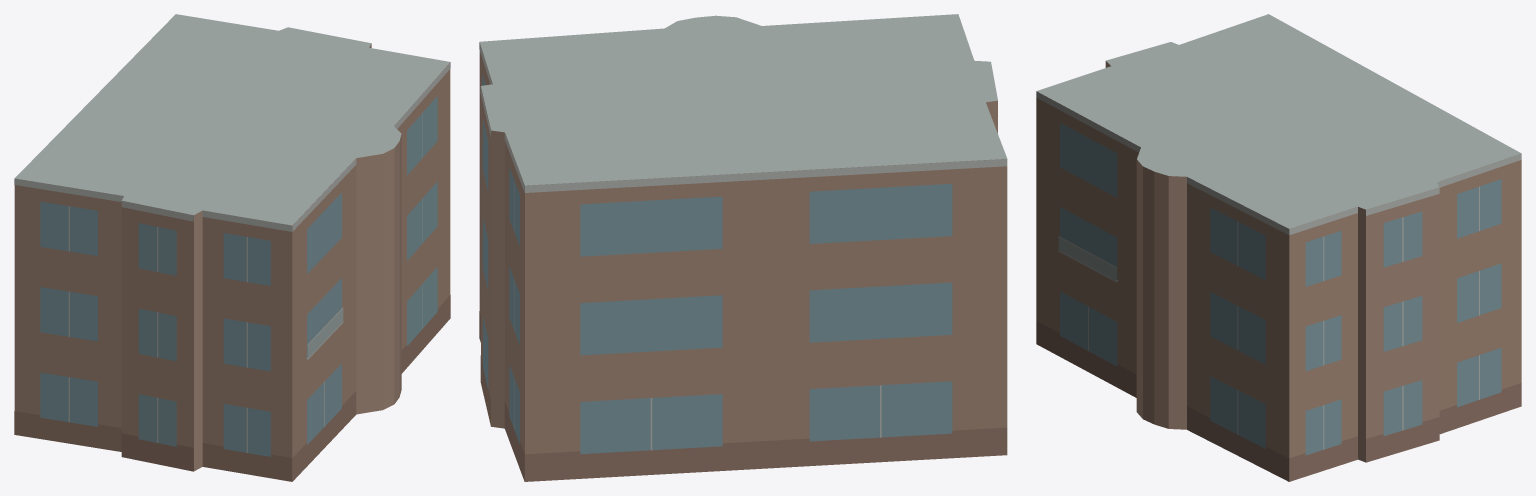
Rendered from survey-upis-32974349.glb.
The picture shows the model from 3 angles, left to right: view 1: azimuth 30°, elevation 25°; view 2: azimuth 150°, elevation 25°; view 3: azimuth 270°, elevation 25°; orthographic projection. The views are drawn at different scales.
Visible parts, largest first — view 1: survey-upis-32974349.tmp; view 2: survey-upis-32974349.tmp; view 3: survey-upis-32974349.tmp.
Part boxes in pixels (bbox=[...]): survey-upis-32974349.tmp: bbox=[14, 14, 450, 481]; survey-upis-32974349.tmp: bbox=[479, 14, 1007, 481]; survey-upis-32974349.tmp: bbox=[1036, 14, 1521, 481].
Bounding box in the file's own units: 17.69 × 9.7 × 16.87.
